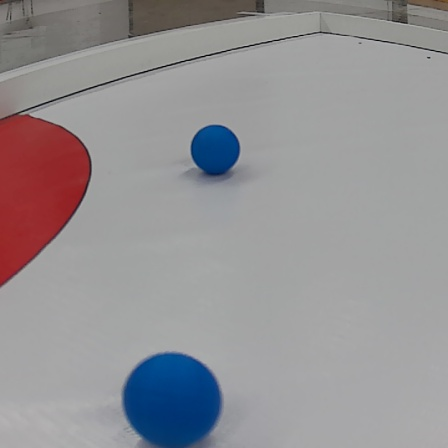blue: (120, 351, 223, 447), (191, 121, 241, 175)
red_base: (0, 109, 92, 287)
